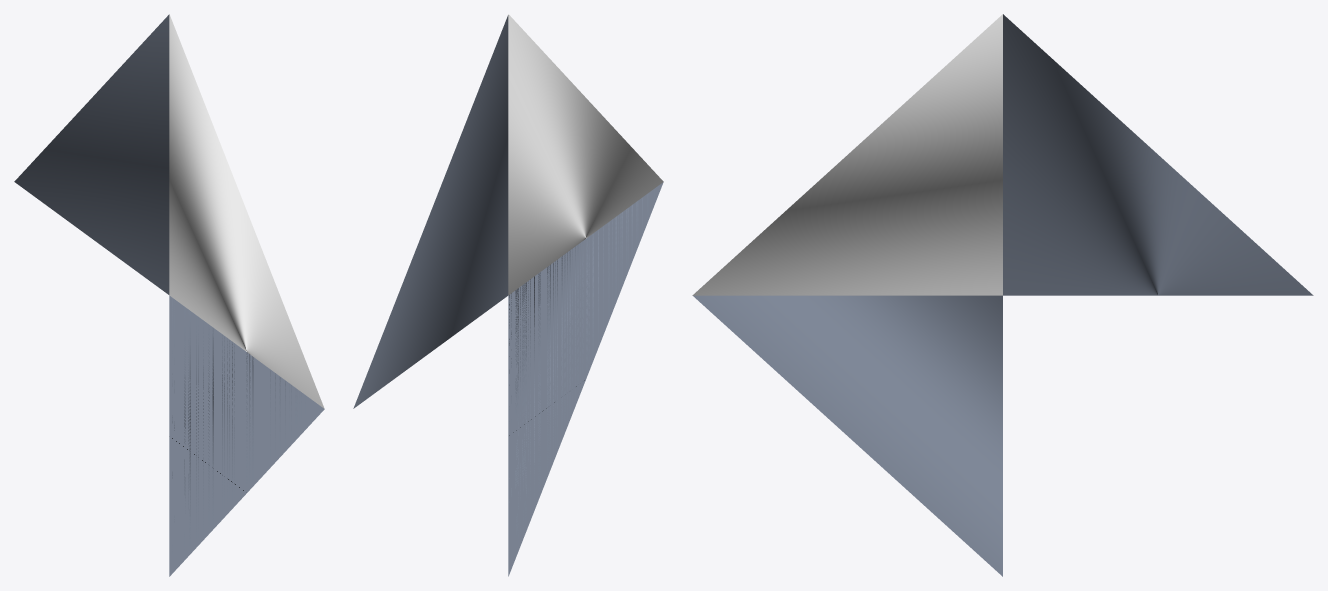
File: dc_motor.glb
The picture shows the model from 3 angles, left to right: view 1: azimuth 30°, elevation 25°; view 2: azimuth 150°, elevation 25°; view 3: azimuth 270°, elevation 25°; orthographic projection.
Parts seen in each view (by area): view 1: DCMotorFrame, CommutatorShaft; view 2: DCMotorFrame, CommutatorShaft; view 3: DCMotorFrame, CommutatorShaft.
Boxes of the visible parts, bbox=[...] form: DCMotorFrame: bbox=[14, 14, 324, 576]; CommutatorShaft: bbox=[169, 14, 324, 408]; DCMotorFrame: bbox=[353, 15, 663, 576]; CommutatorShaft: bbox=[508, 14, 663, 295]; DCMotorFrame: bbox=[693, 14, 1313, 576]; CommutatorShaft: bbox=[692, 14, 1002, 295].
Bounding box in the file's own units: 3.59 × 7.38e+19 × 7.38e+19.
